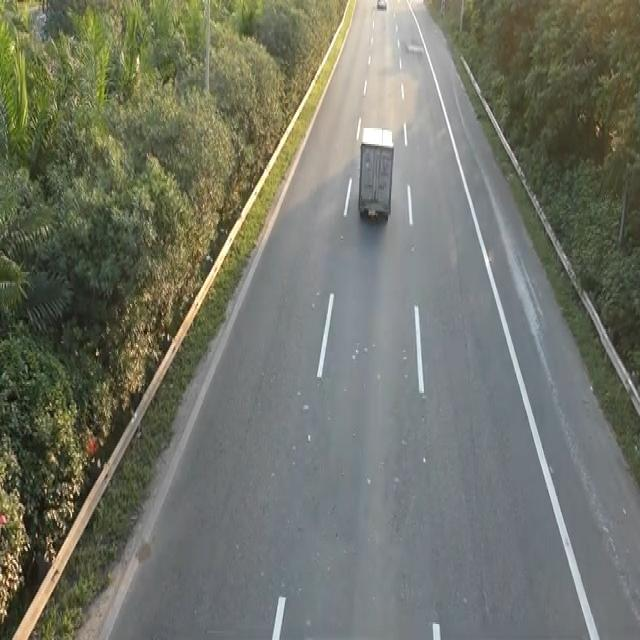minivan: (356, 123, 395, 224)
